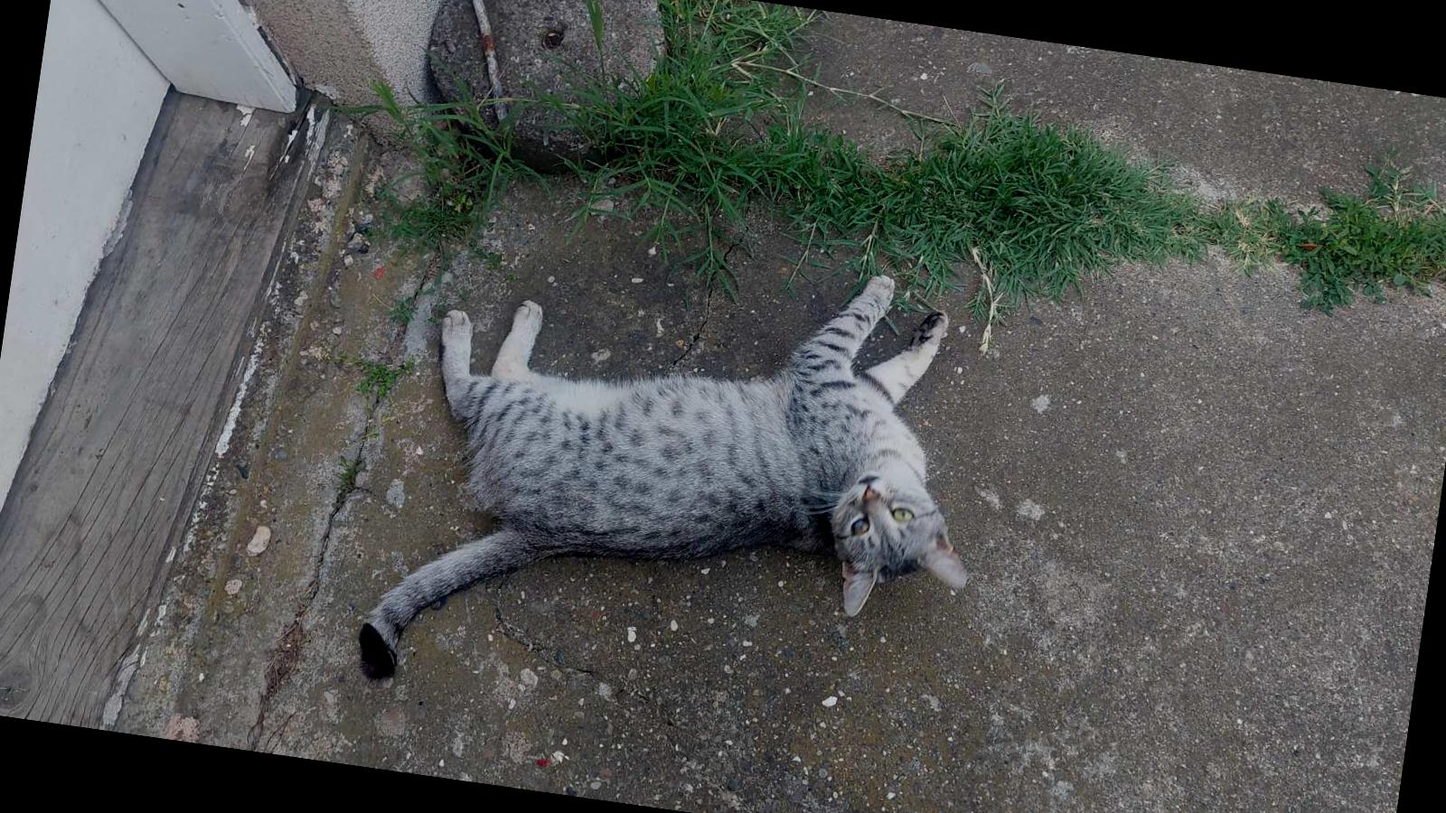macka: (354, 206, 1009, 758)
